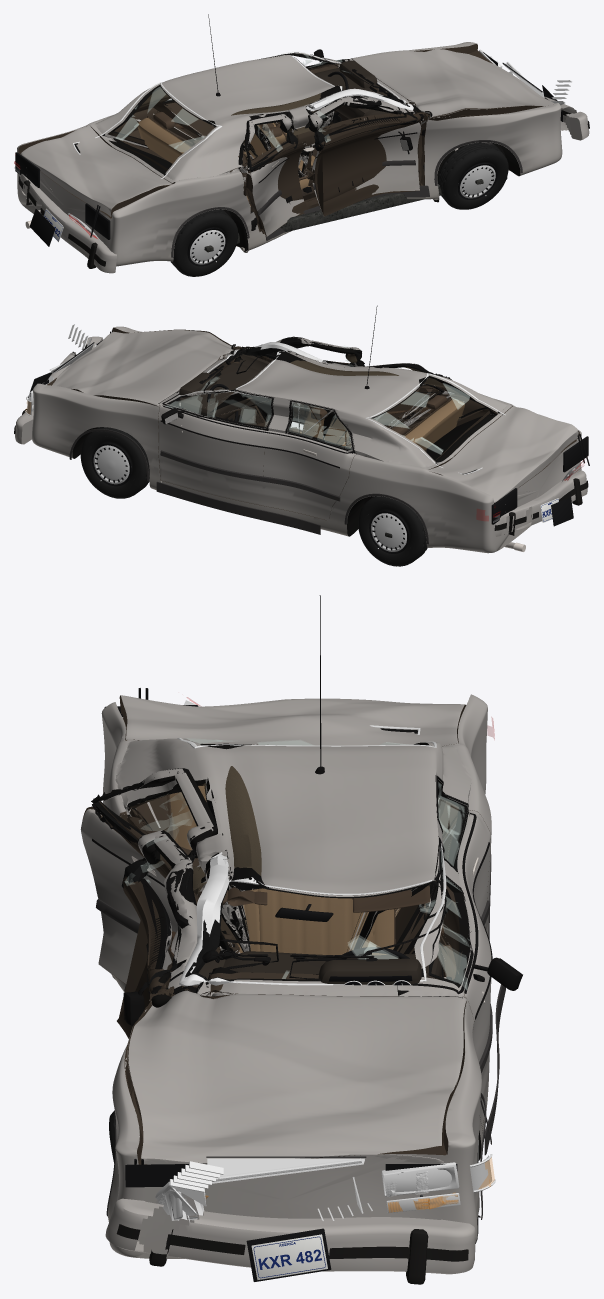
Rendered from sedan87_side_R_d2.glb.
3 renders of one model, top to bottom at view 1: azimuth 30°, elevation 25°; view 2: azimuth 150°, elevation 25°; view 3: azimuth 270°, elevation 25°, orthographic. The views are drawn at different scales.
Visible parts, largest first — view 1: Body, Door_FR, Hood, Trunk, Door_RR, Interior, Wheel_FR_mesh, Wheel_RR_mesh, Ends, Glass, Bumper_R, Underbody (+7 smaller); view 2: Body, Hood, Door_FL, Trunk, Door_RL, Interior, Wheel_FL_mesh, Wheel_RL_mesh, Ends, Trim, Glass, Bumper_R (+8 smaller); view 3: Body, Hood, Bumper_F, Interior, Trunk, Ends, Door_RR, Door_FR, Glass, Door_FL, Trim_FL, Door_RL (+8 smaller).
Part boxes in pixels (<box>): Body: <box>17,42,562,266</box>; Door_FR: <box>306,95,424,216</box>; Hood: <box>350,49,554,118</box>; Trunk: <box>20,125,171,216</box>; Door_RR: <box>243,113,307,236</box>; Interior: <box>137,60,413,206</box>; Wheel_FR_mesh: <box>437,142,508,209</box>; Wheel_RR_mesh: <box>170,209,238,276</box>; Ends: <box>15,49,572,246</box>; Glass: <box>73,51,413,178</box>; Bumper_R: <box>18,173,116,273</box>; Underbody: <box>25,145,507,253</box>; Body: <box>32,326,581,553</box>; Hood: <box>52,329,235,406</box>; Door_FL: <box>158,390,273,504</box>; Trunk: <box>428,406,578,503</box>; Door_RL: <box>260,400,356,520</box>; Interior: <box>177,354,464,450</box>; Wheel_FL_mesh: <box>80,427,149,498</box>; Wheel_RL_mesh: <box>358,496,427,566</box>; Ends: <box>25,324,589,526</box>; Trim: <box>69,305,428,544</box>; Glass: <box>178,342,505,474</box>; Bumper_R: <box>494,470,588,536</box>; Body: <box>101,694,491,1258</box>; Hood: <box>127,990,466,1164</box>; Bumper_F: <box>105,1198,475,1284</box>; Interior: <box>166,784,442,992</box>; Trunk: <box>119,695,465,745</box>; Ends: <box>104,688,495,1281</box>; Door_RR: <box>80,768,217,984</box>; Door_FR: <box>117,830,197,1038</box>; Glass: <box>176,725,446,986</box>; Door_FL: <box>398,837,491,1129</box>; Trim_FL: <box>289,837,522,1073</box>; Door_RL: <box>435,775,490,944</box>.
Bounding box in the file's own units: 5.07 × 2.04 × 1.88.
33 materials, 5 textured.
